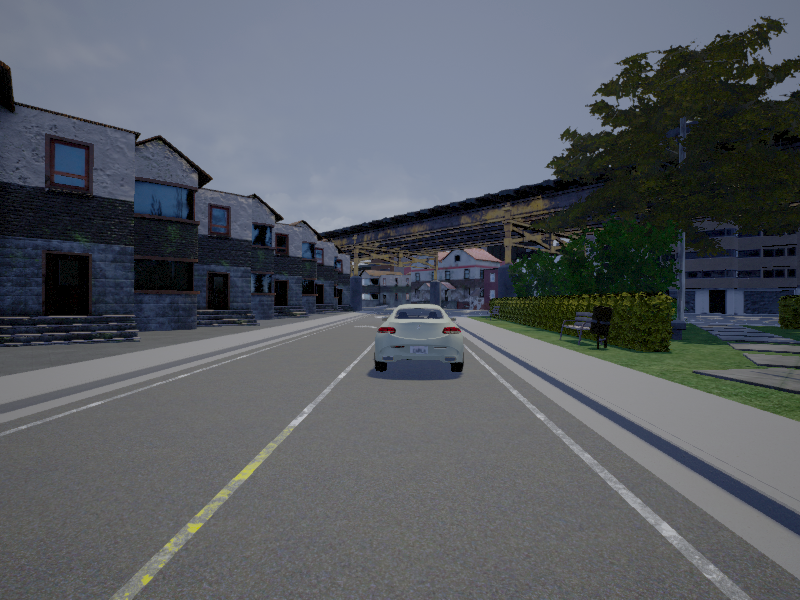Benign: (375, 303, 465, 369)
